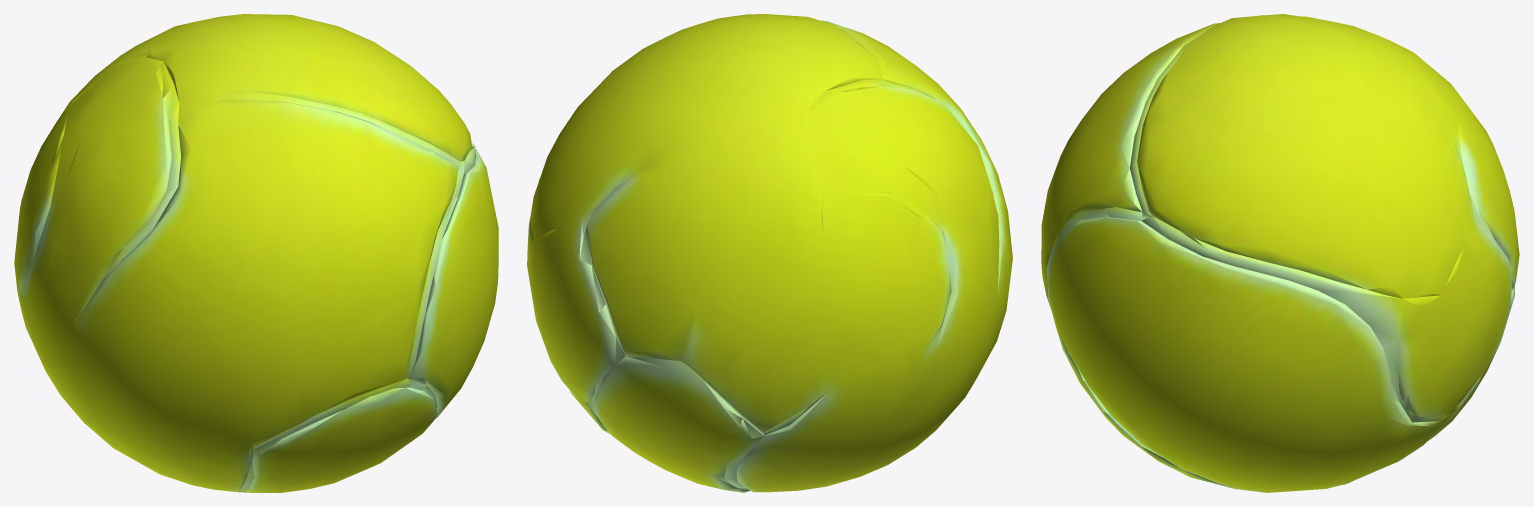
The model's file is tennisBall.glb.
3 renders of one model, left to right at view 1: azimuth 30°, elevation 25°; view 2: azimuth 150°, elevation 25°; view 3: azimuth 270°, elevation 25°, orthographic.
Parts seen in each view (by area): view 1: model; view 2: model; view 3: model.
Part boxes in pixels (x1=…): model: x1=14, y1=14, x2=498, y2=492; model: x1=527, y1=14, x2=1012, y2=492; model: x1=1041, y1=14, x2=1519, y2=492.
Bounding box in the file's own units: 1.9 × 1.89 × 1.89.
1 material, 1 textured.
